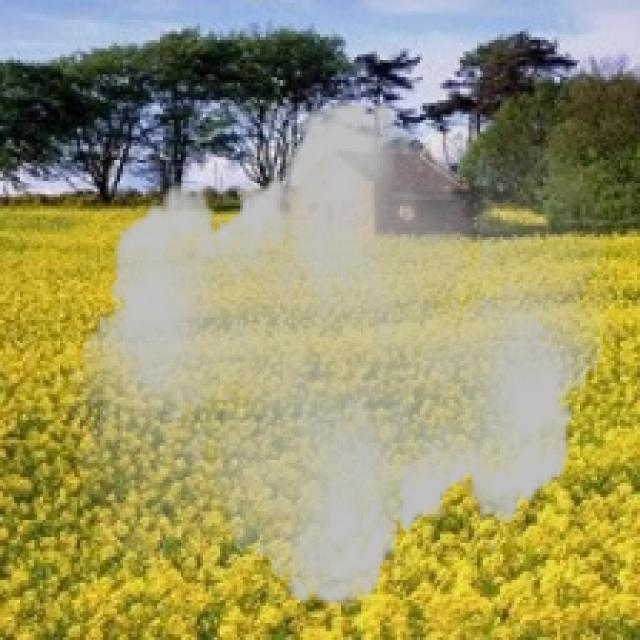Smoke: (68, 77, 614, 629)
